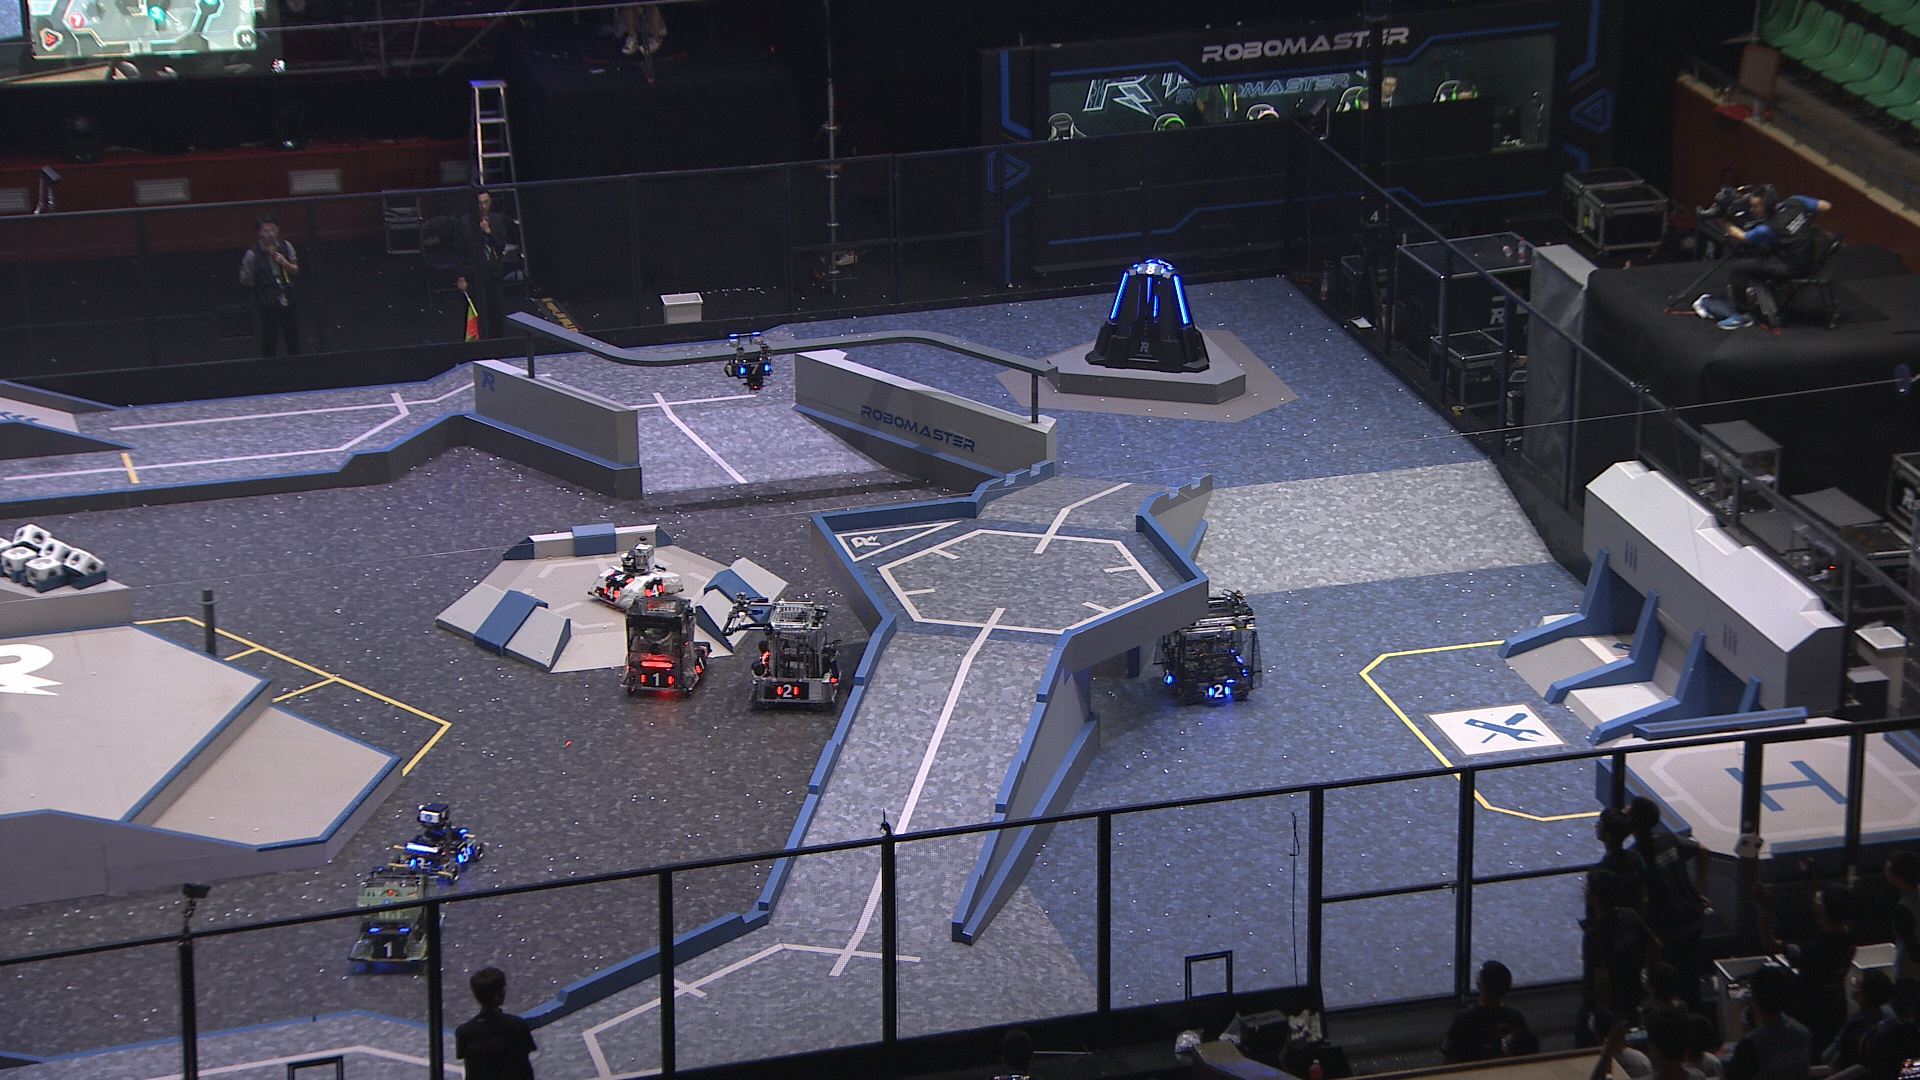armor: (1109, 272, 1130, 320), (1174, 276, 1191, 327), (368, 942, 410, 960), (640, 671, 675, 688), (1207, 680, 1233, 700), (1135, 262, 1168, 277), (740, 363, 773, 377), (774, 683, 800, 700), (608, 570, 636, 585), (646, 582, 665, 599), (1160, 666, 1178, 684), (458, 845, 475, 864), (1150, 295, 1162, 322), (694, 654, 709, 674), (409, 856, 433, 869), (603, 584, 621, 600), (1145, 276, 1153, 305)
base: (1084, 261, 1215, 376)
car: (1159, 591, 1265, 705), (347, 865, 448, 971), (752, 599, 844, 712), (618, 595, 713, 698), (386, 802, 487, 887), (589, 541, 688, 612)
watcher: (723, 332, 774, 392)
